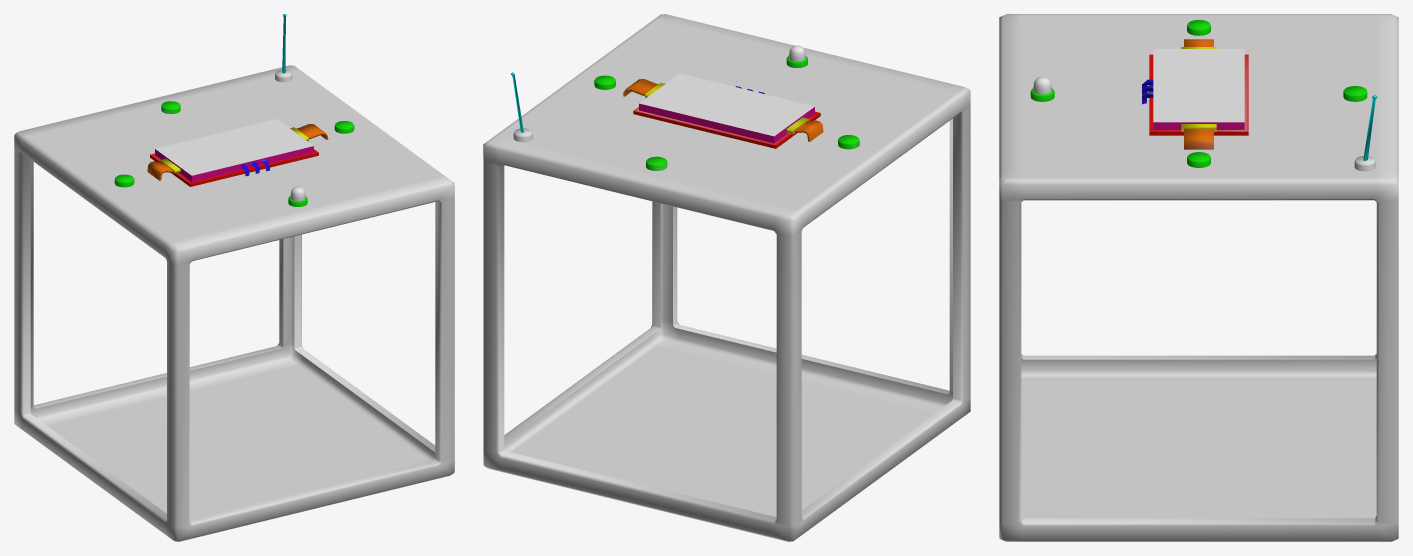
Rendered from Detonator_v2.fbx.
3 views of the same model, side by side, from view 1: azimuth 30°, elevation 25°; view 2: azimuth 150°, elevation 25°; view 3: azimuth 270°, elevation 25° (orthographic). The views are drawn at different scales.
Visible parts, largest first — view 1: detonator, screen; view 2: detonator, screen; view 3: detonator, screen.
Part boxes in pixels (x1,y1,x2,y2): detonator: [14, 14, 454, 541]; screen: [155, 119, 313, 175]; detonator: [483, 14, 970, 541]; screen: [639, 73, 814, 136]; detonator: [999, 14, 1398, 541]; screen: [1153, 49, 1244, 122].
Size of the model in its own units: 6.8 by 8.2 by 6.8.
